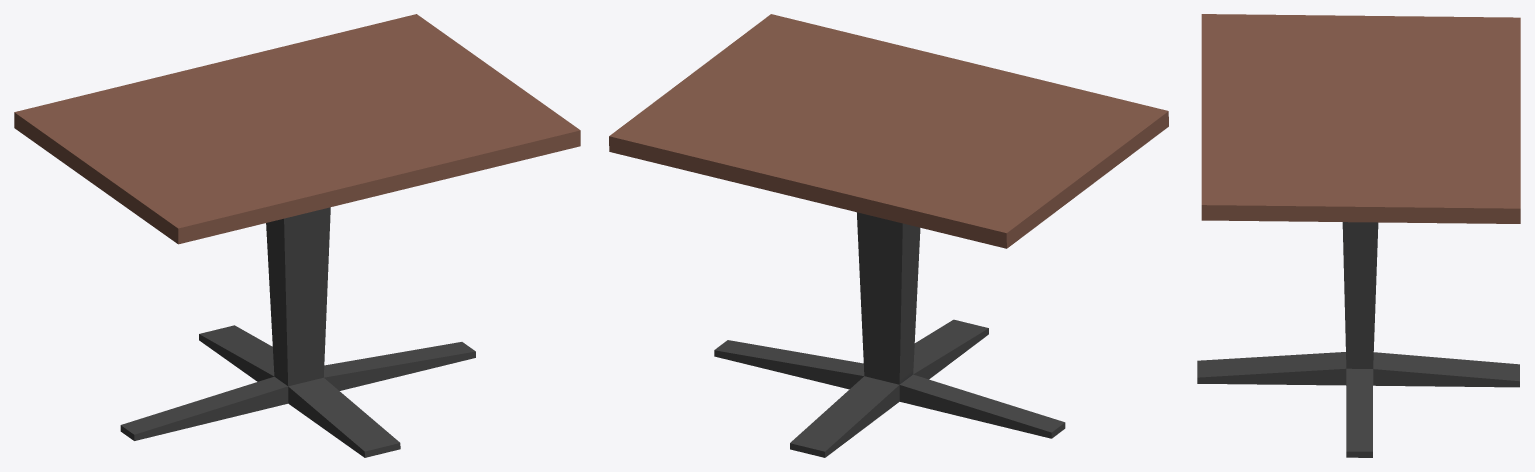
Rendered from SM_Table_03.fbx.
3 views of the same model, side by side, from view 1: azimuth 30°, elevation 25°; view 2: azimuth 150°, elevation 25°; view 3: azimuth 270°, elevation 25° (orthographic). The views are drawn at different scales.
Parts seen in each view (by area): view 1: SM_Table_03; view 2: SM_Table_03; view 3: SM_Table_03.
Boxes of the visible parts, x1,y1,x2,y2 form: SM_Table_03: (14,14,580,457); SM_Table_03: (609,14,1168,457); SM_Table_03: (1197,14,1520,457).
Bounding box in the file's own units: 166 × 109 × 119.
